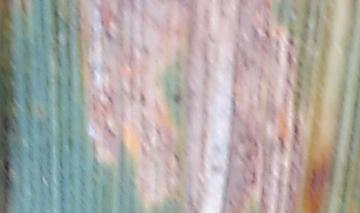tarspot: (2, 160, 11, 173)
